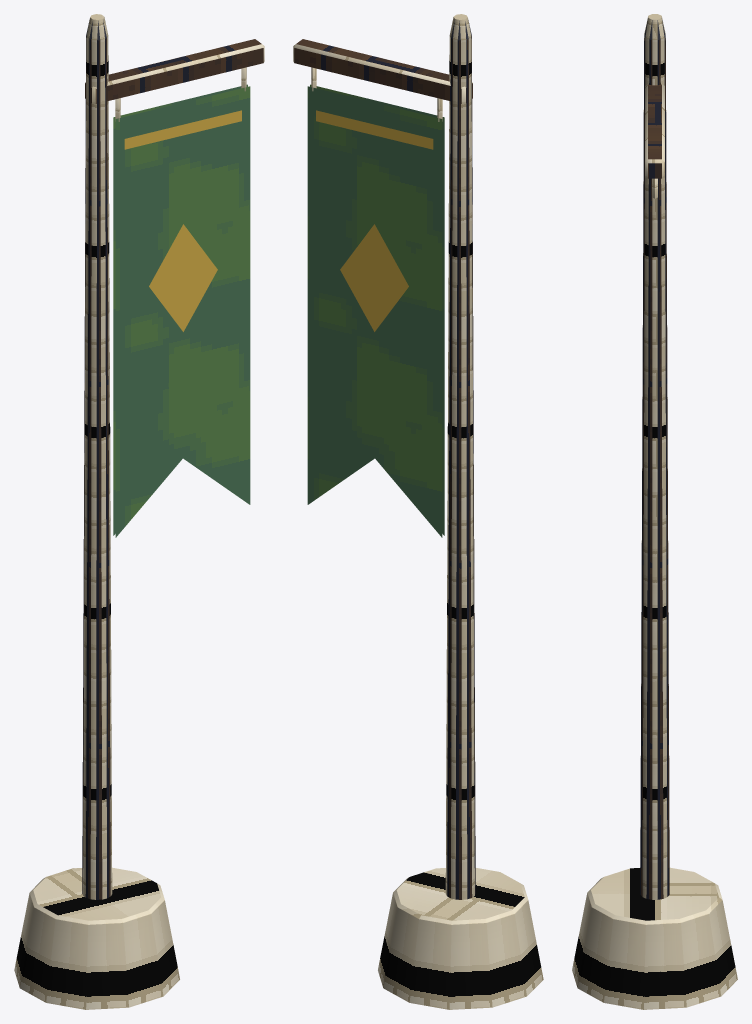
Rendered from banner_pole_2.glb.
3 renders of one model, left to right at view 1: azimuth 30°, elevation 25°; view 2: azimuth 150°, elevation 25°; view 3: azimuth 270°, elevation 25°, orthographic.
Parts seen in each view (by area): view 1: banner_pole_3; view 2: banner_pole_3; view 3: banner_pole_3.
Part boxes in pixels (<box>): banner_pole_3: <box>14,14,264,1009</box>; banner_pole_3: <box>293,14,543,1009</box>; banner_pole_3: <box>572,14,737,1009</box>.
Bounding box in the file's own units: 1.37 × 5.3 × 0.8325.
5 materials, 5 textured.
